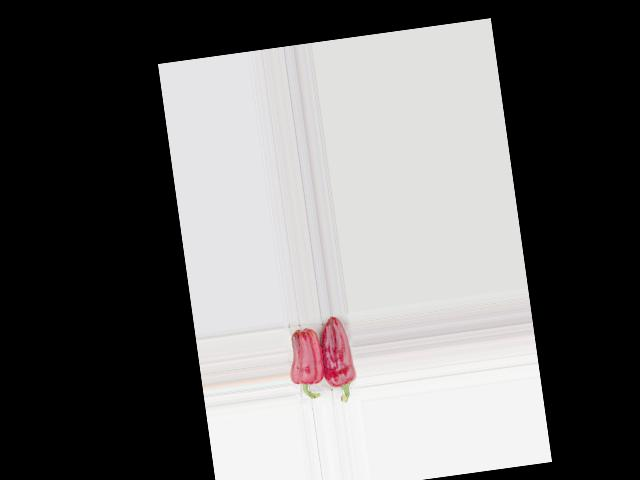bell_pepper: (315, 314, 359, 407)
